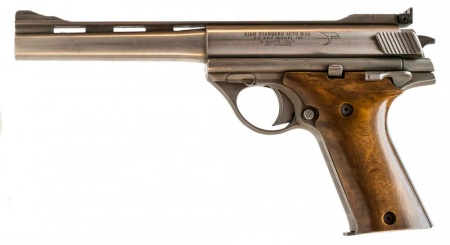gun: (10, 5, 442, 238)
